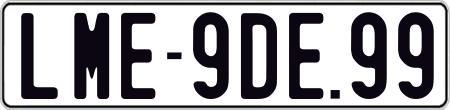9: (192, 9, 231, 97), (351, 11, 388, 101), (398, 12, 432, 100)
D: (238, 12, 274, 98)
E: (120, 11, 157, 101), (287, 11, 324, 101)
L: (21, 13, 58, 105)
M: (72, 10, 107, 101)
